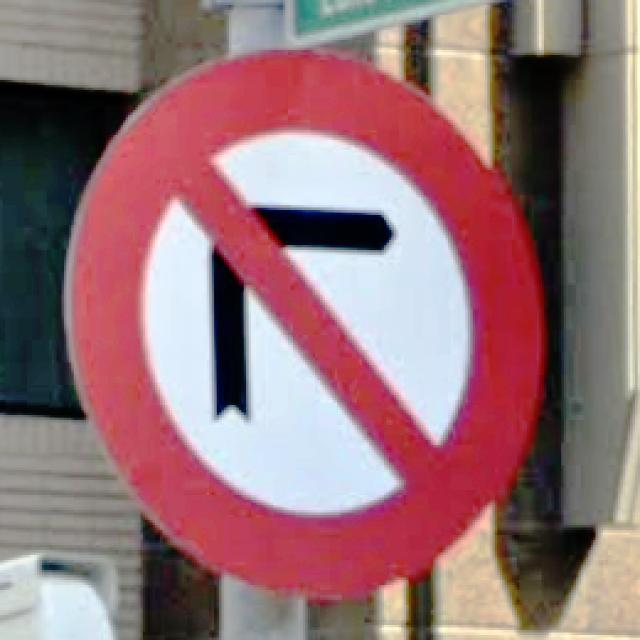noturnright: (66, 50, 546, 600)
